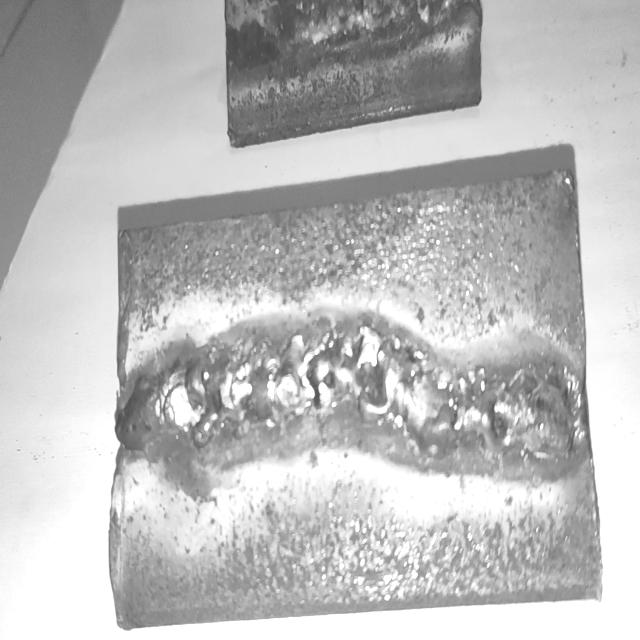Bad Weld: (133, 342, 574, 449)
Defect: (129, 316, 226, 484)
